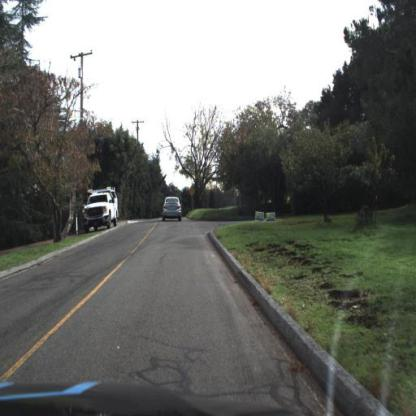car: (82, 187, 121, 229), (162, 193, 184, 223)
truck: (78, 181, 126, 237)
